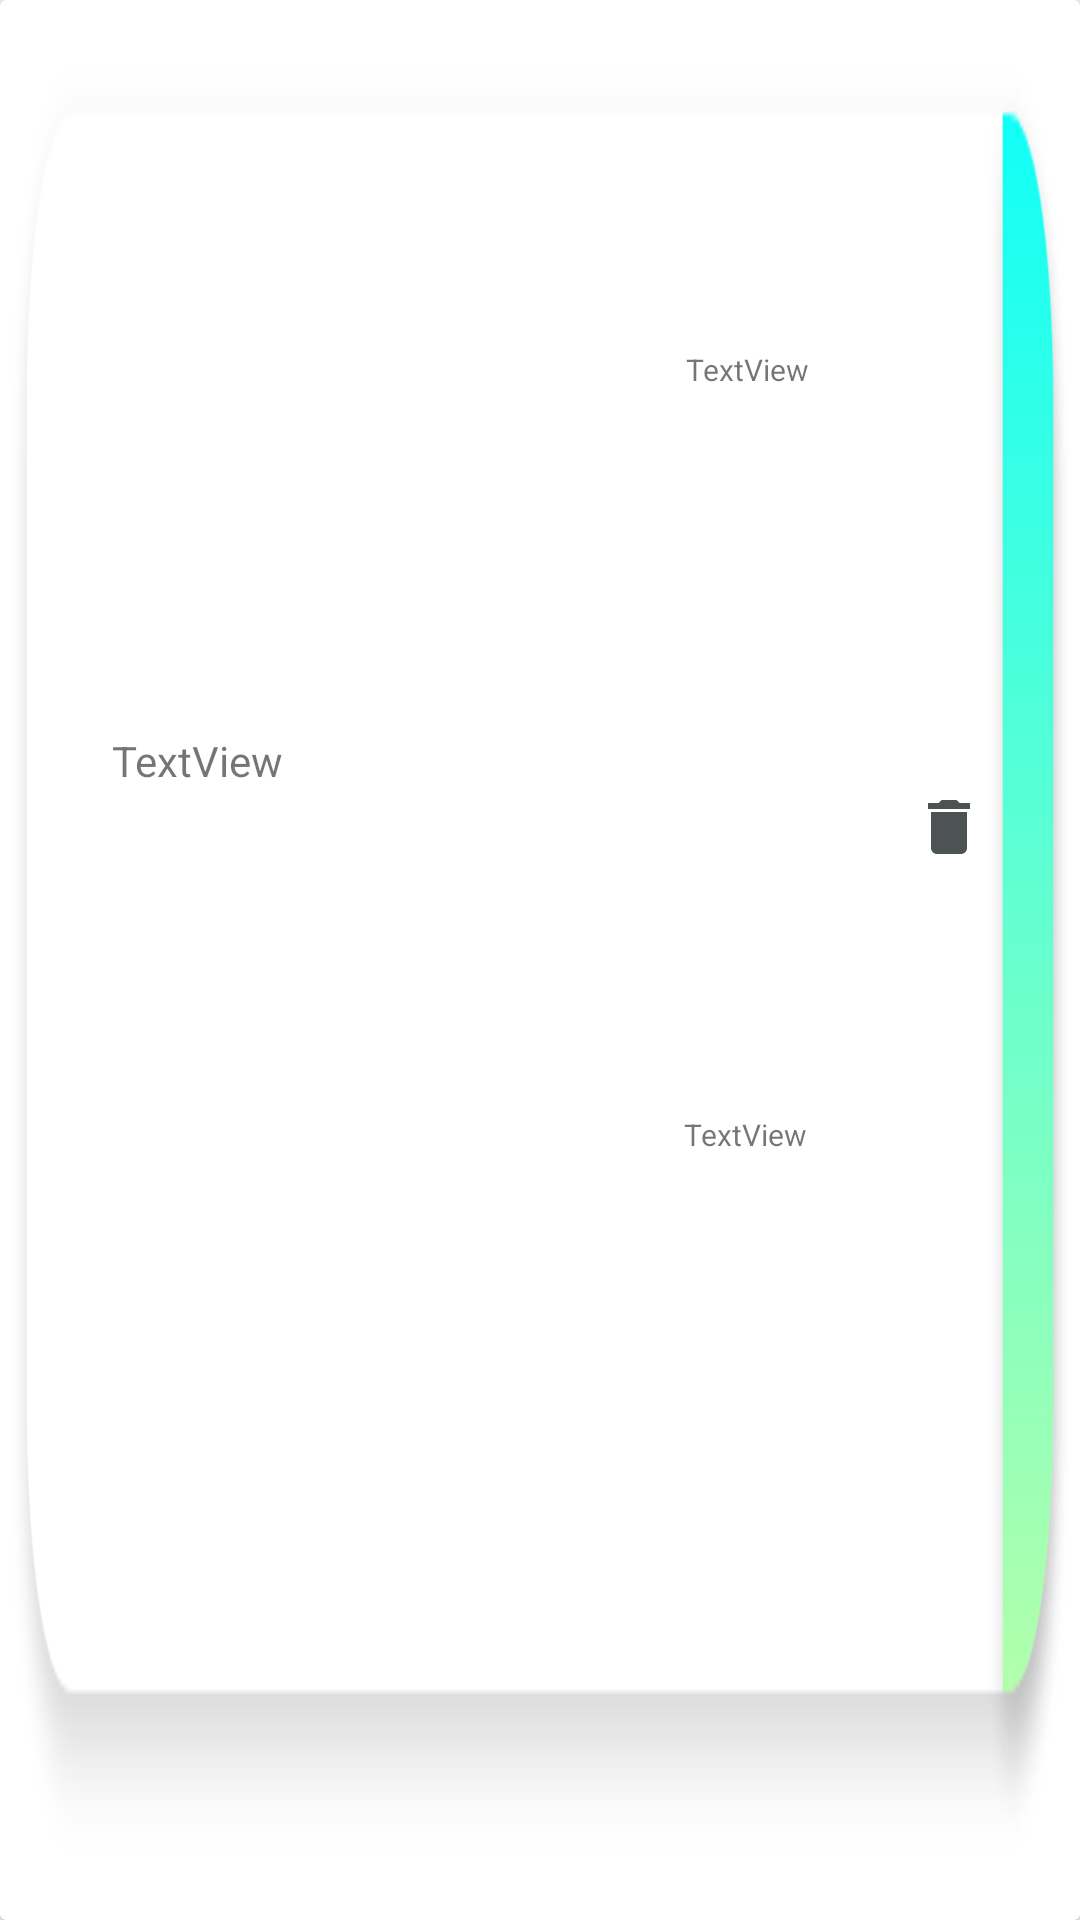

Locate icon controls on the screen. Image size 1080*1920, boxes as (x1, y1, x2, y2).
delete: (928, 800, 970, 854)
